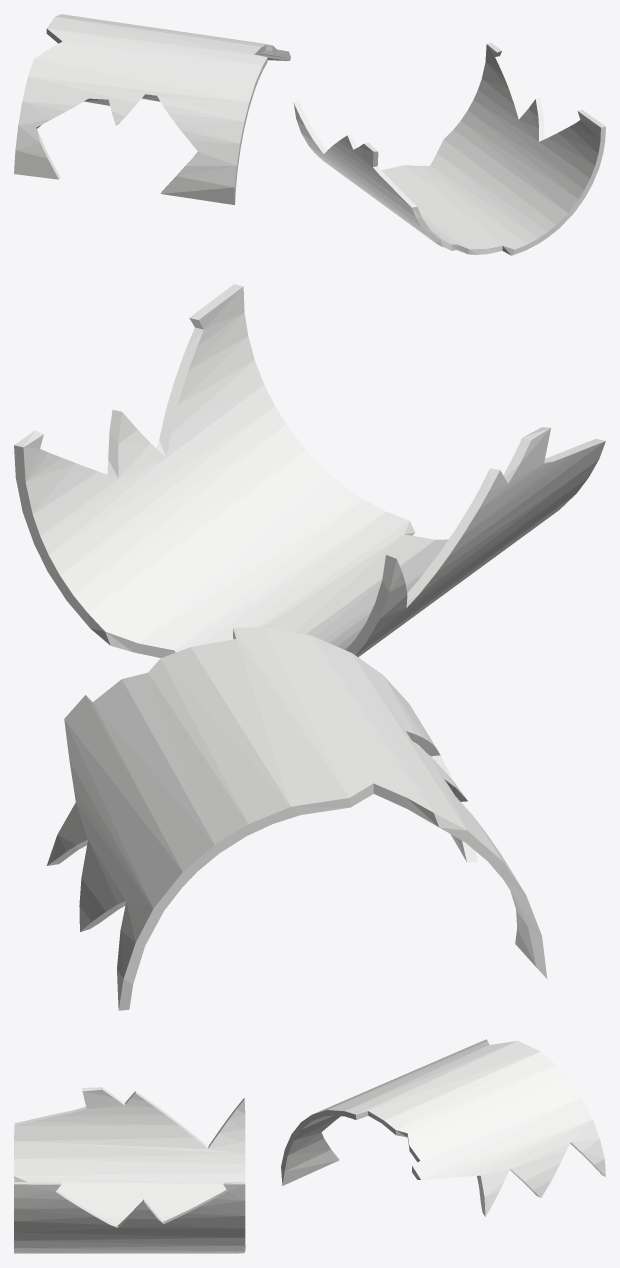
Rendered from scherbenGross.obj.
3 renders of one model, top to bottom at view 1: azimuth 30°, elevation 25°; view 2: azimuth 150°, elevation 25°; view 3: azimuth 270°, elevation 25°, orthographic. The views are drawn at different scales.
Parts seen in each view (by area): view 1: 300586_23_06_15_12_26_54_2, 300586_23_06_15_12_26_54_1; view 2: 300586_23_06_15_12_26_54_2, 300586_23_06_15_12_26_54_1; view 3: 300586_23_06_15_12_26_54_2, 300586_23_06_15_12_26_54_1.
Part boxes in pixels (x1,y1,x2,y2): 300586_23_06_15_12_26_54_2: [293, 42, 605, 255]; 300586_23_06_15_12_26_54_1: [14, 14, 290, 204]; 300586_23_06_15_12_26_54_2: [14, 284, 605, 657]; 300586_23_06_15_12_26_54_1: [46, 627, 547, 1010]; 300586_23_06_15_12_26_54_2: [14, 1087, 245, 1253]; 300586_23_06_15_12_26_54_1: [281, 1039, 605, 1216].
Size of the model in its own units: 9.42 by 2.81 by 12.67.
Materials: 2 (2 with a texture image).
